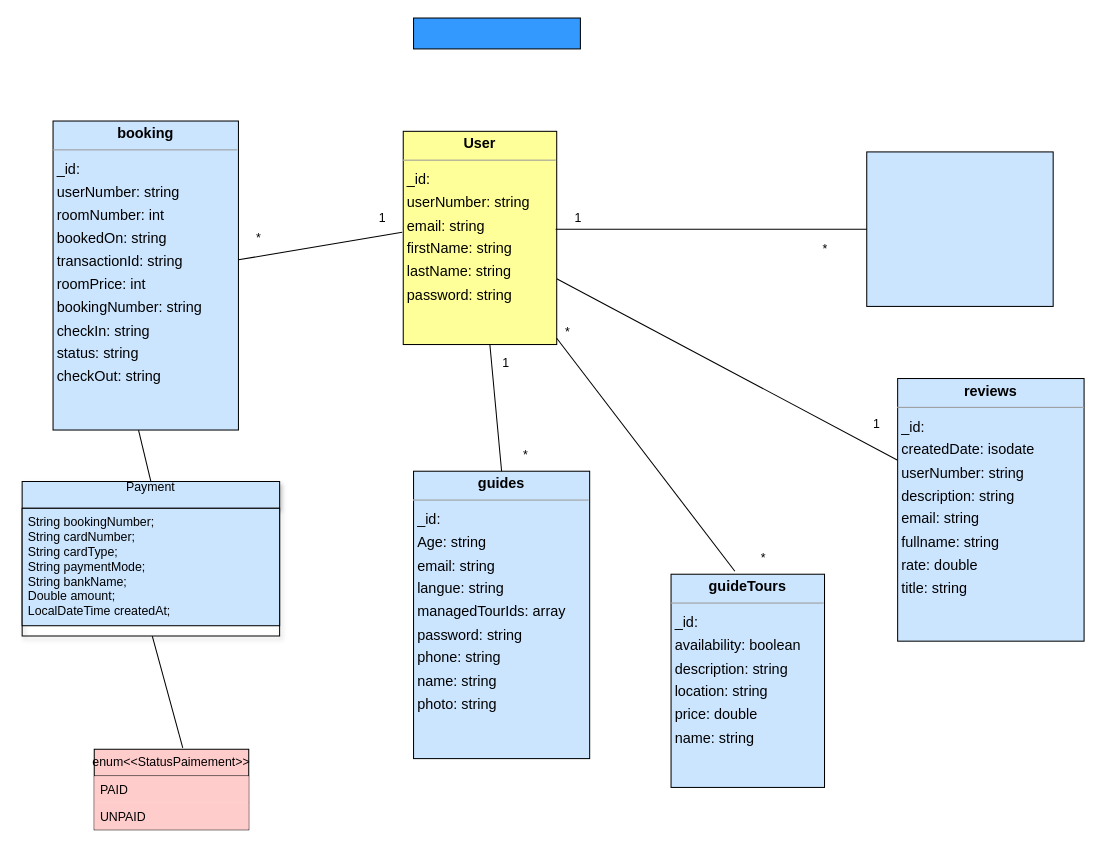
This 1102x851 diagram has some shape labels left out. Here are the shapes that lost their labels. From the top down, the centre of each, then its label:
At point 496,33: "explorMaghreb".
At point 959,228: "notification _id: Sendemail:string Getemail: string".
